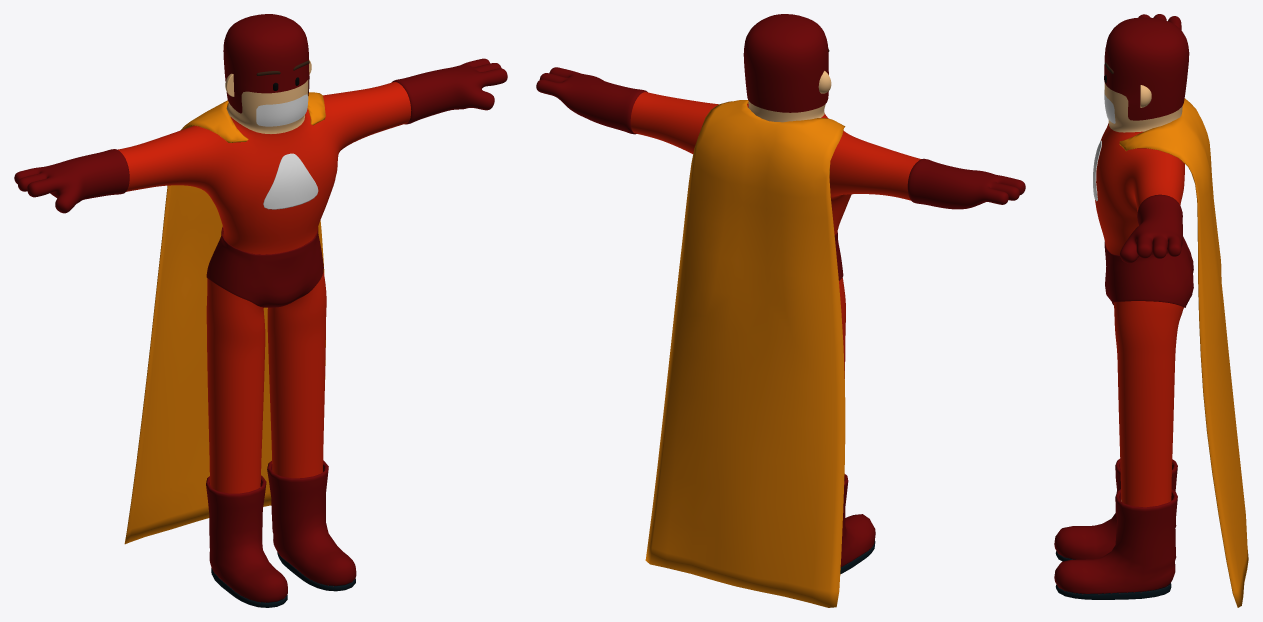
Rendered from uploads_files_3295897_superhero_final (2).fbx.
The picture shows the model from 3 angles, left to right: view 1: azimuth 30°, elevation 25°; view 2: azimuth 150°, elevation 25°; view 3: azimuth 270°, elevation 25°; orthographic projection.
Visible parts, largest first — view 1: Body, cape, Shoes, gloves, hat, underwear, logo, Mouth; view 2: cape, Body, gloves, hat, Shoes; view 3: Body, cape, Shoes, hat, underwear, gloves.
Boxes of the visible parts, x1,y1,x2,y2 form: Body: (118,79,411,493); cape: (124,92,325,544); Shoes: (206,460,356,607); gloves: (14,58,507,213); hat: (223,14,309,113); underwear: (206,226,323,307); logo: (263,153,318,209); Mouth: (256,94,308,126); cape: (645,100,845,607); Body: (630,92,921,378); gloves: (536,67,1025,209); hat: (743,14,828,112); Shoes: (840,474,875,574); Body: (1095,83,1184,507); cape: (1119,98,1248,607); Shoes: (1054,458,1177,599); hat: (1104,17,1189,120); underwear: (1104,236,1193,307); gloves: (1120,14,1182,263).
Bounding box in the file's own units: 8.78 × 9.5 × 3.05.
